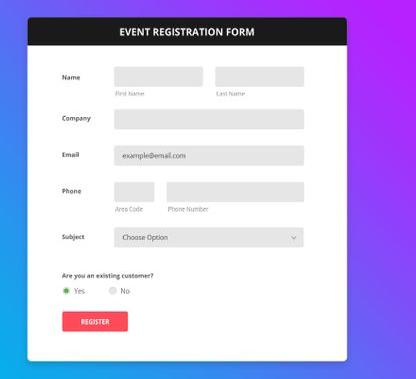button: (61, 310, 130, 333)
field: (111, 144, 305, 167), (112, 108, 305, 130), (113, 227, 305, 249), (166, 182, 305, 203), (112, 67, 204, 90), (214, 65, 304, 88), (112, 181, 155, 203)
field_with_label: (61, 106, 308, 132), (62, 143, 308, 169), (62, 225, 308, 250), (62, 65, 207, 91), (62, 179, 157, 204)
radio: (61, 283, 72, 297), (107, 285, 117, 297)
radio_with_label: (104, 282, 132, 299), (58, 281, 84, 299)
